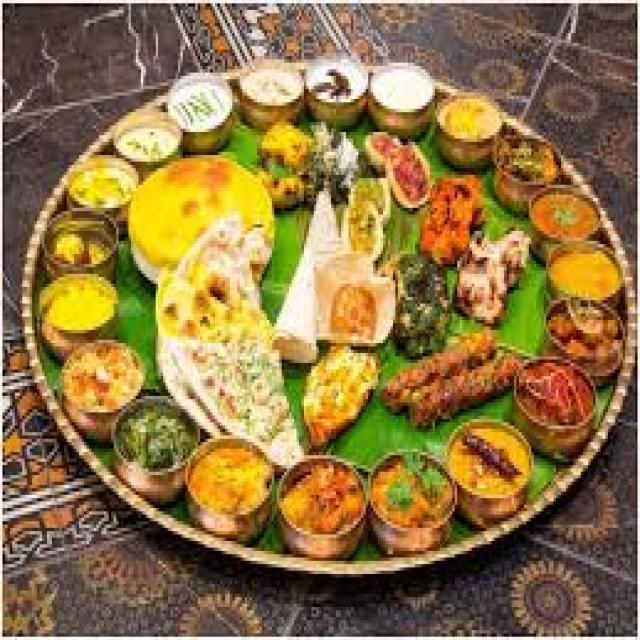curd: (371, 60, 435, 117)
dal: (125, 159, 266, 277), (31, 265, 127, 343), (521, 184, 610, 245), (542, 238, 622, 302), (438, 89, 502, 142)
papad: (292, 345, 384, 441)
raita: (370, 60, 437, 117)
roti: (151, 261, 290, 436)
sambar-rasam: (542, 227, 618, 303), (525, 182, 606, 244)
sweet: (445, 420, 535, 520), (511, 352, 601, 447)
veg-fry: (511, 354, 601, 445)
